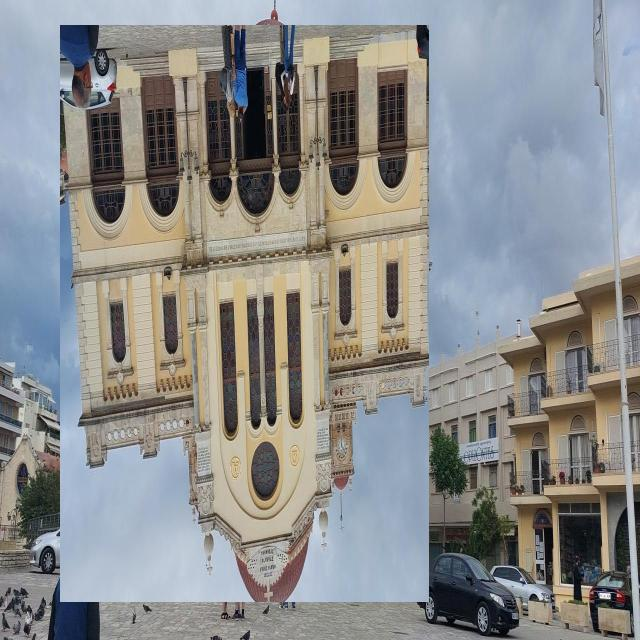Agios Minas: (61, 26, 430, 603)
